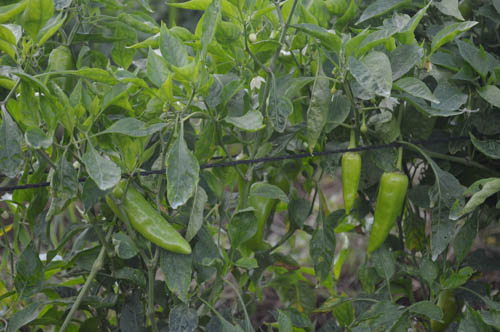ChiliPepper: (113, 182, 200, 261), (366, 172, 407, 251), (241, 182, 278, 246), (339, 154, 360, 216), (49, 49, 71, 85)
